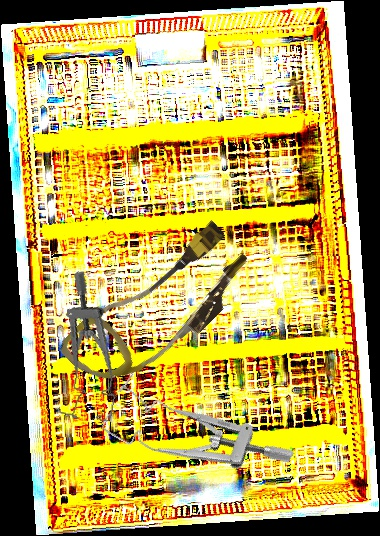Cannula: (56, 204, 262, 413)
Speculum: (97, 359, 296, 519), (48, 269, 136, 427)
